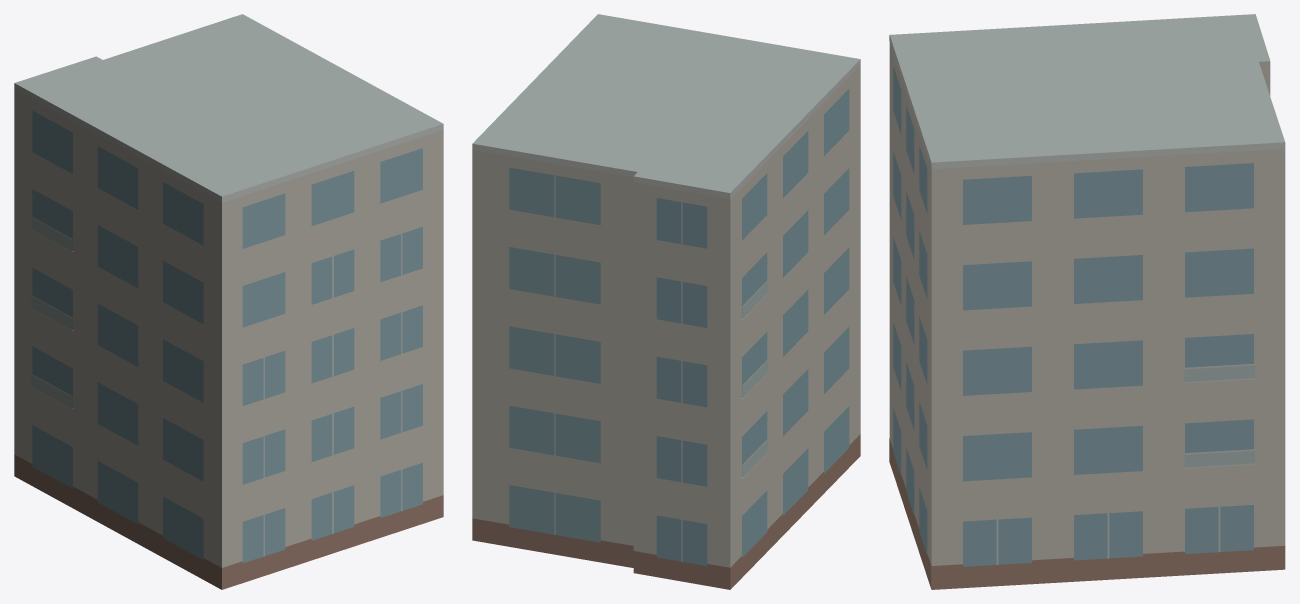
File: survey-upis-32532916.glb
The picture shows the model from 3 angles, left to right: view 1: azimuth 30°, elevation 25°; view 2: azimuth 150°, elevation 25°; view 3: azimuth 270°, elevation 25°; orthographic projection. The views are drawn at different scales.
Visible parts, largest first — view 1: survey-upis-32532916.tmp; view 2: survey-upis-32532916.tmp; view 3: survey-upis-32532916.tmp.
Boxes of the visible parts, bbox=[...] form: survey-upis-32532916.tmp: bbox=[14, 14, 443, 589]; survey-upis-32532916.tmp: bbox=[472, 14, 860, 589]; survey-upis-32532916.tmp: bbox=[889, 14, 1285, 589].
Size of the model in its own units: 11.87 by 15.9 by 13.36.
